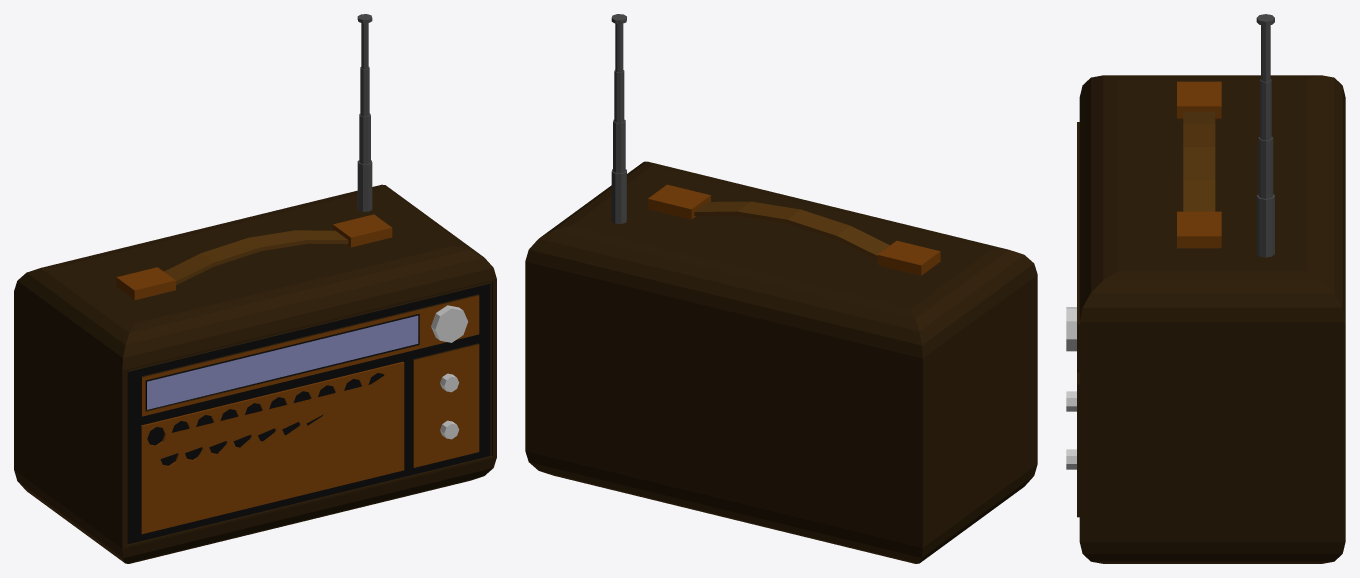
Rendered from Radio.fbx.
3 views of the same model, side by side, from view 1: azimuth 30°, elevation 25°; view 2: azimuth 150°, elevation 25°; view 3: azimuth 270°, elevation 25° (orthographic). The views are drawn at different scales.
Visible parts, largest first — view 1: Radio, Tuning; view 2: Radio; view 3: Radio, Tuning.
Part boxes in pixels (box(x1,y1,x2,y2)): Radio: box(14, 14, 496, 563); Tuning: box(431, 305, 468, 342); Radio: box(525, 14, 1037, 563); Radio: box(1077, 14, 1345, 563); Tuning: box(1066, 307, 1076, 351).
Size of the model in its own units: 200 by 218 by 105.
